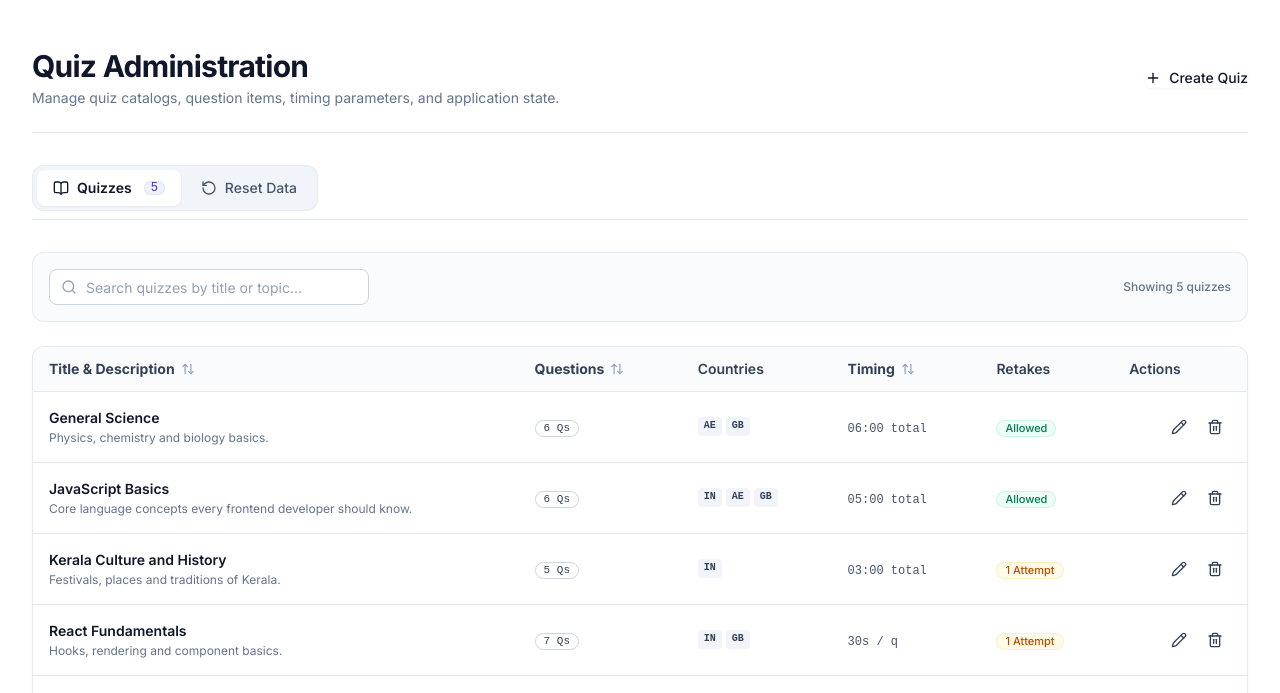
AdminDashboardPage (Task 40-44) › opens Edit Quiz modal when edit button is clicked
Expected: the text "JavaScript Basics" is shown, [49, 480, 169, 496]
Click the button named "edit quiz javascript basics".
click(1179, 498)  # box [1163, 482, 1195, 514]
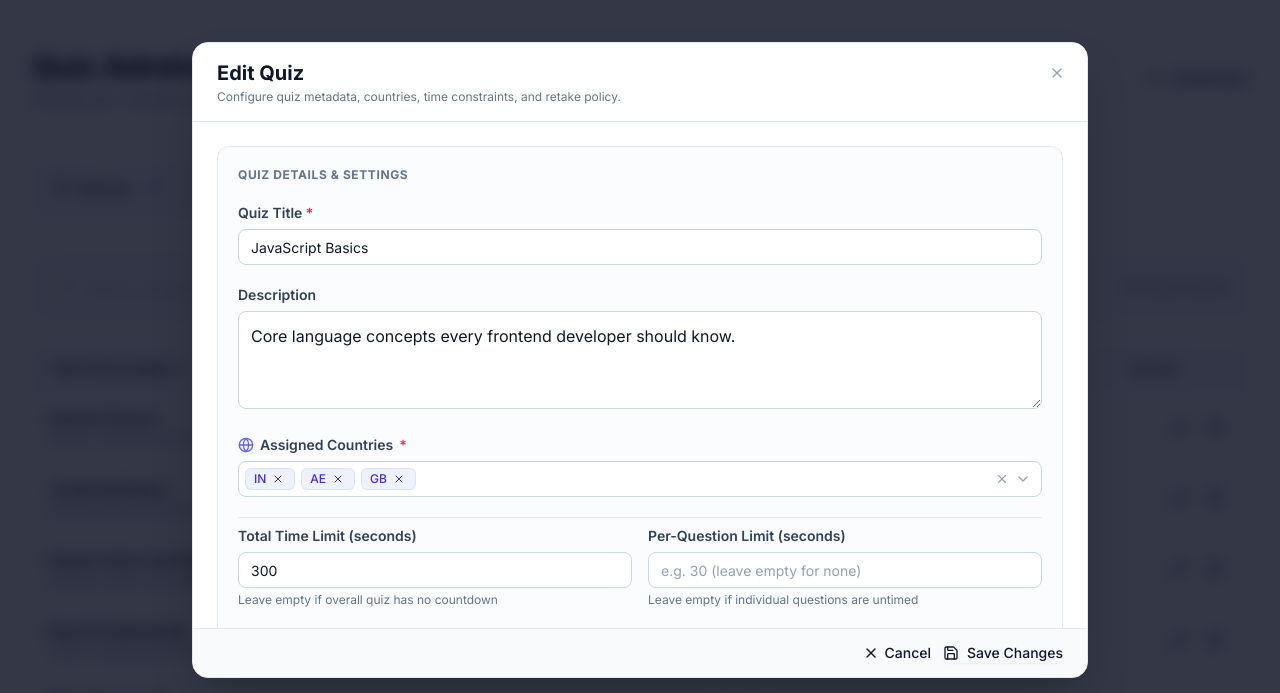
Expected: the heading "Edit Quiz" is shown, [217, 61, 304, 85]
Expected: the field showing "JavaScript Basics" is shown, [238, 229, 1042, 265]
